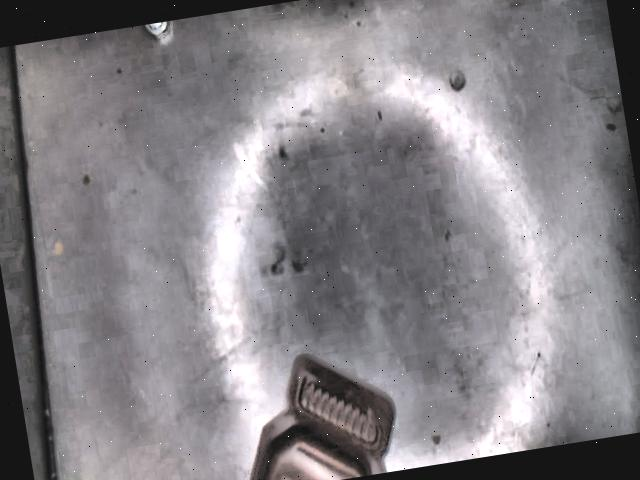Plastic: (249, 353, 396, 480)
